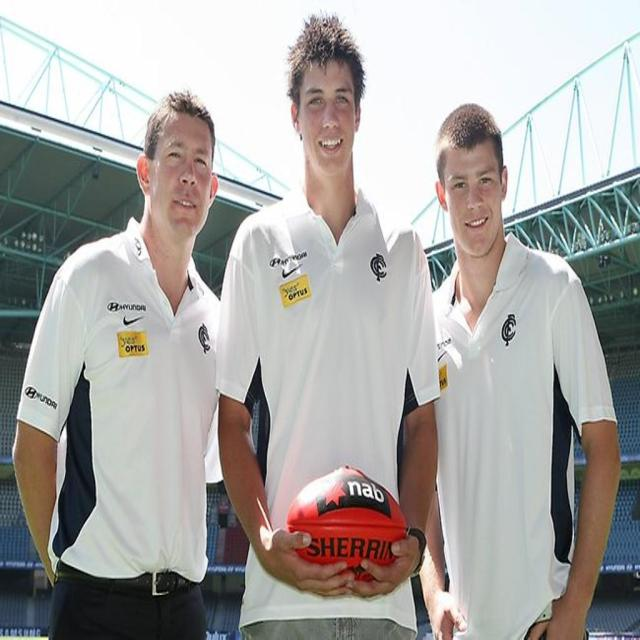Face: (143, 113, 243, 241), (283, 40, 371, 172), (430, 131, 514, 260)
